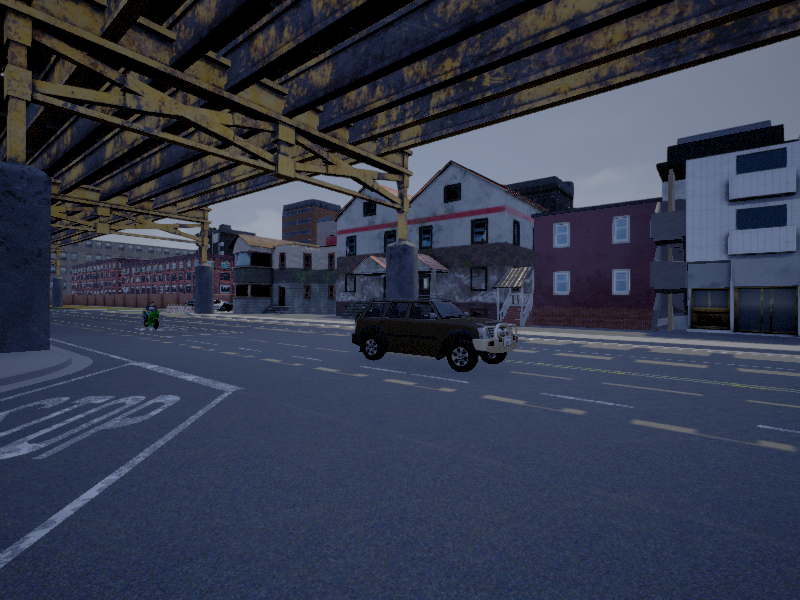benign: (353, 299, 519, 372)
